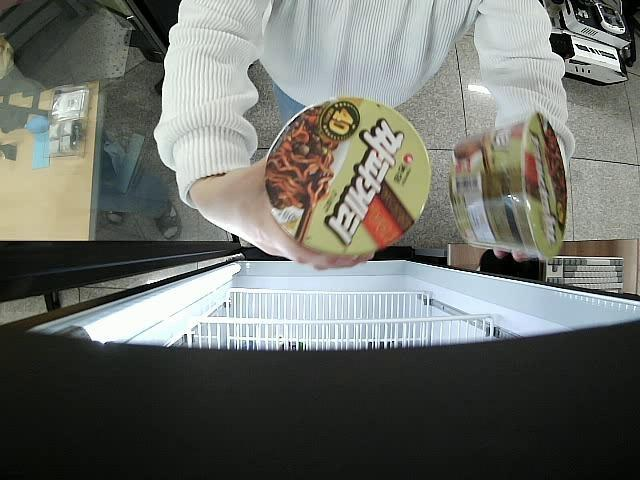03_chapagetti_L: (265, 98, 432, 256), (451, 112, 568, 260)
